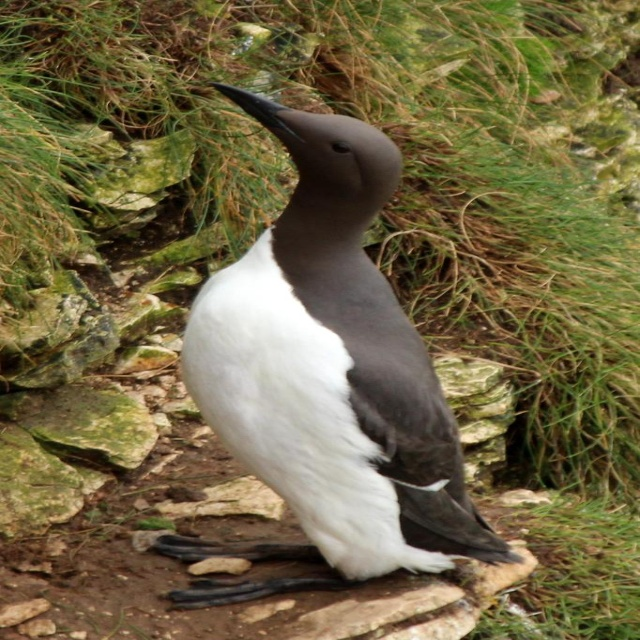Penguin: (143, 82, 525, 613)
